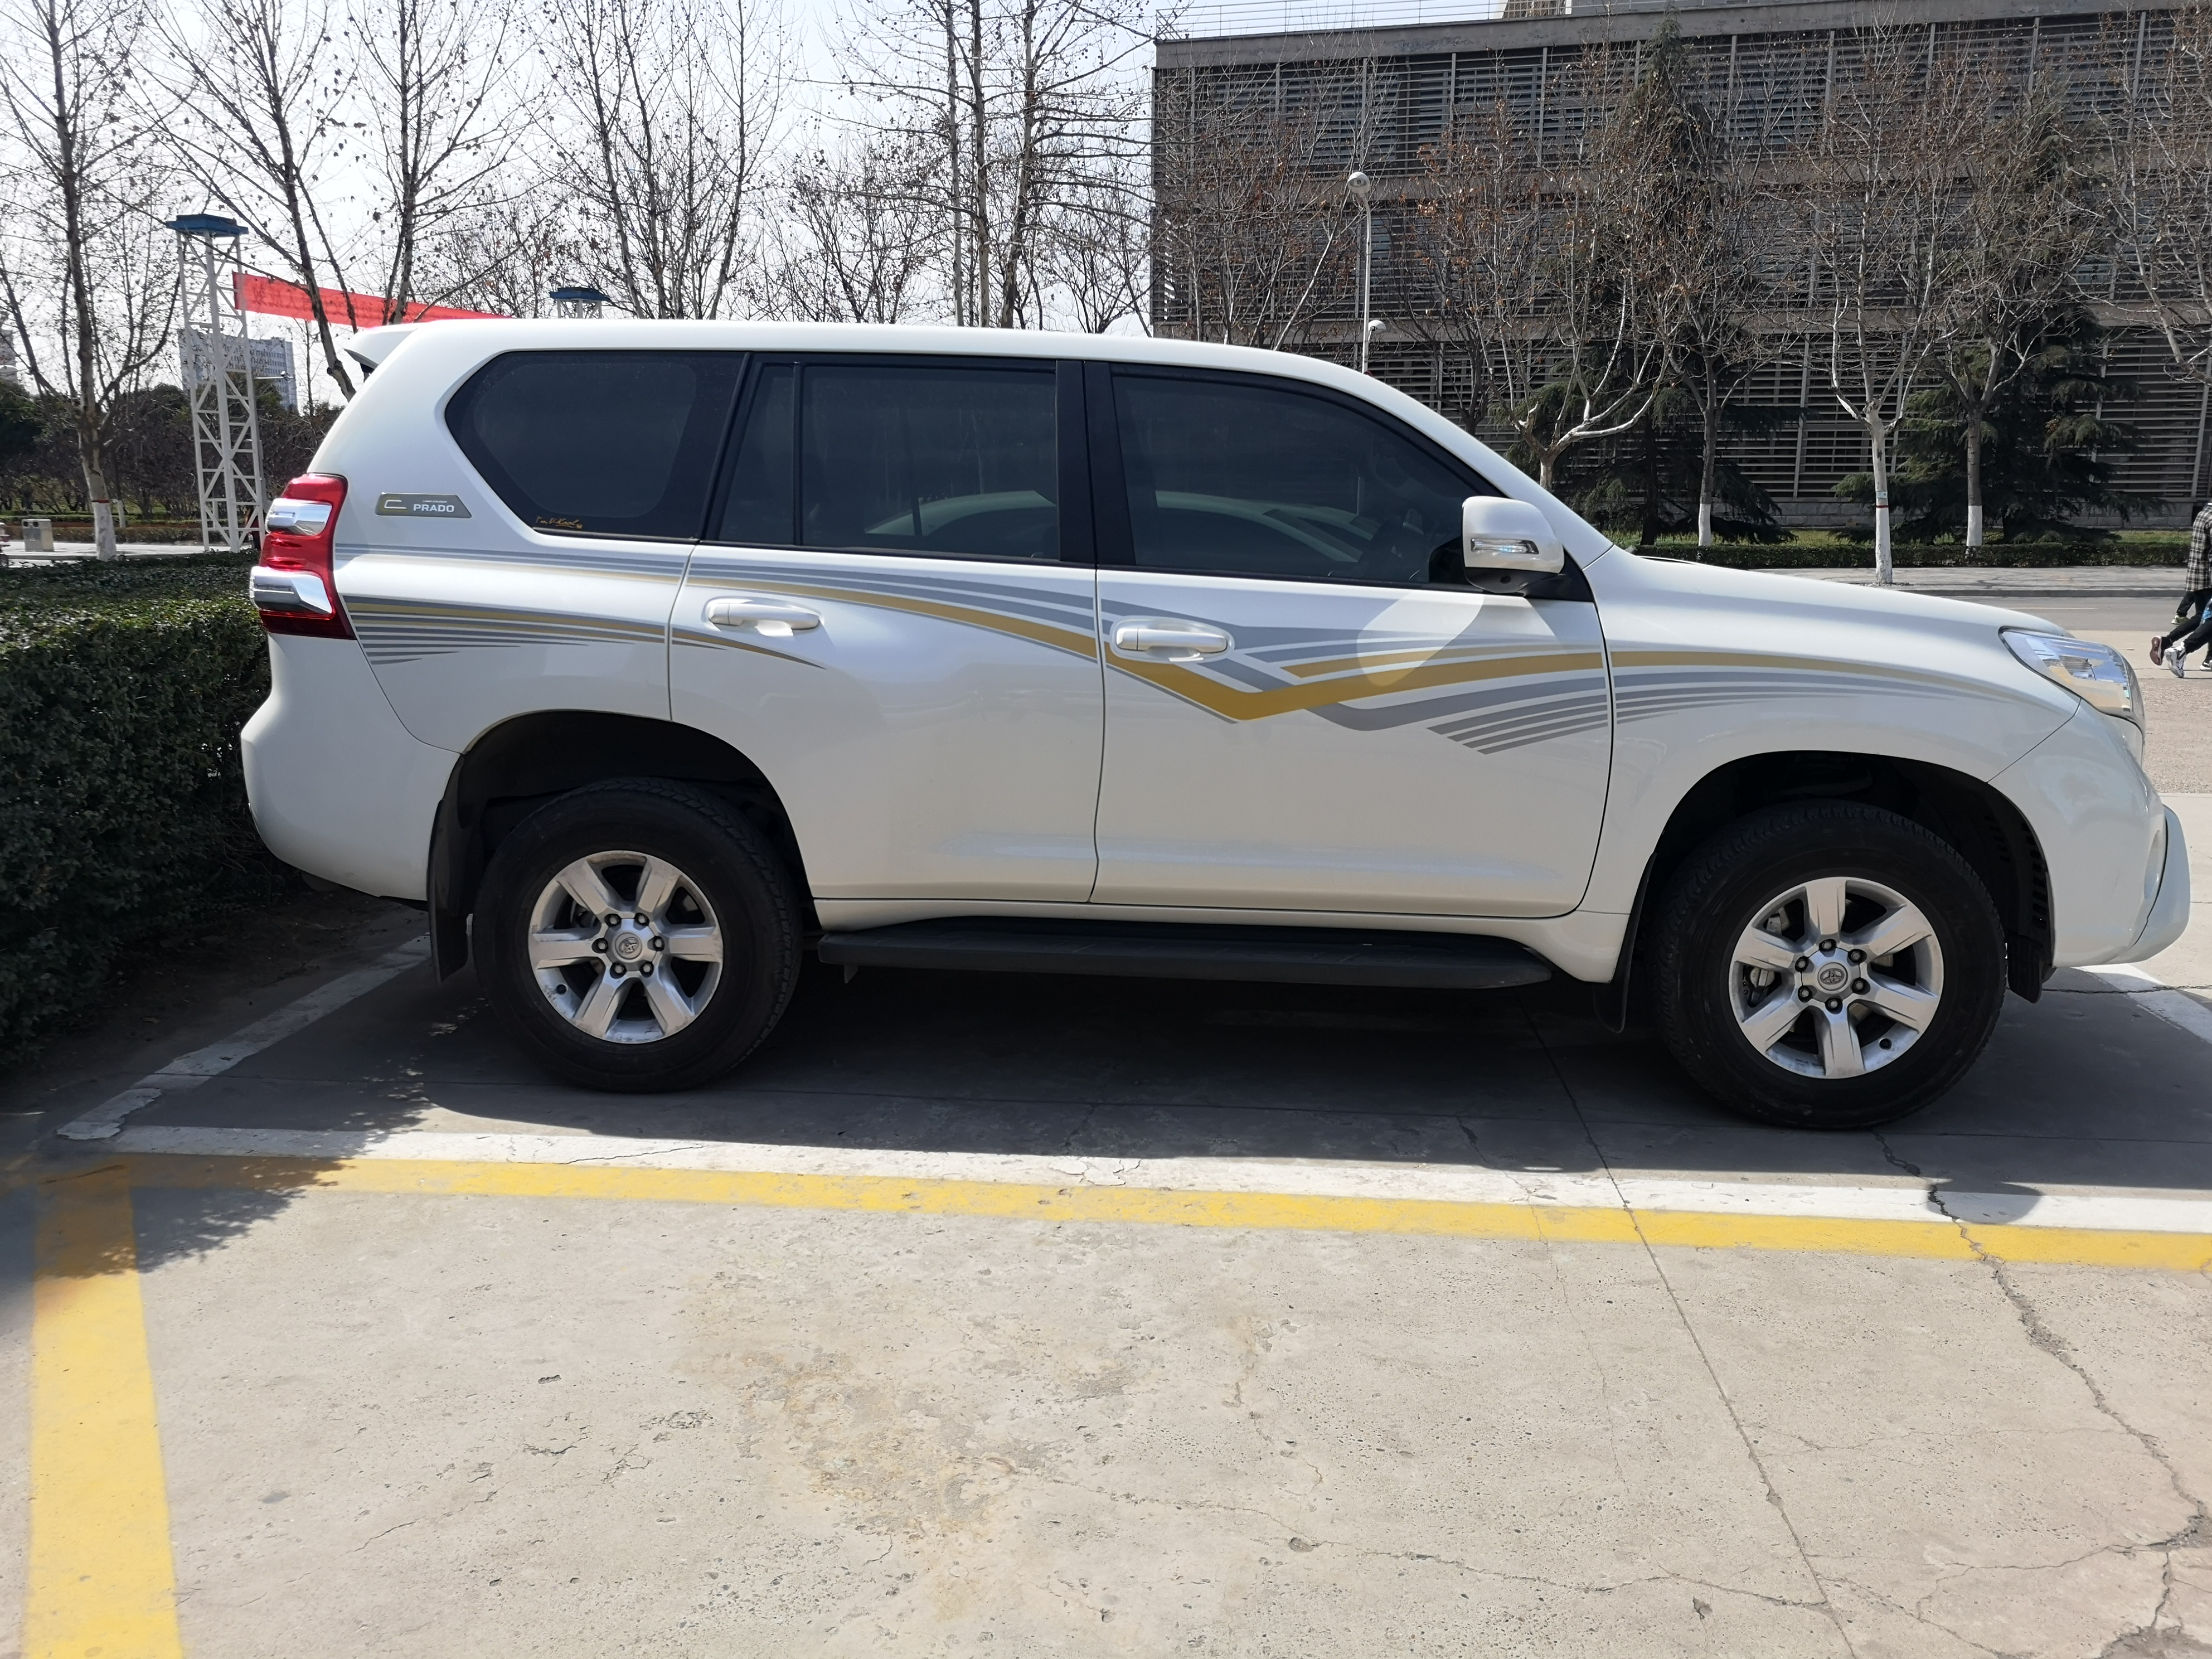car: (190, 277, 2203, 1164)
